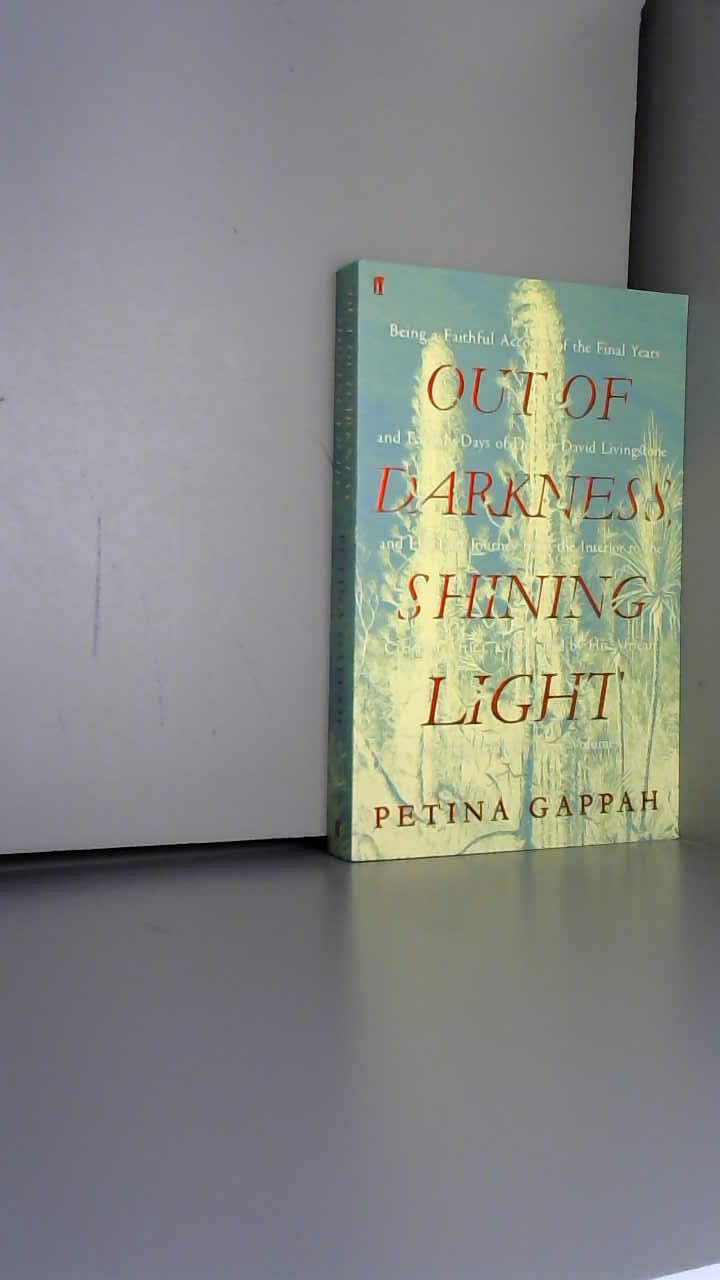book: (300, 230, 720, 935)
